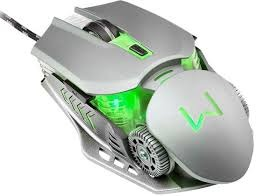mouse: (34, 1, 256, 193)
